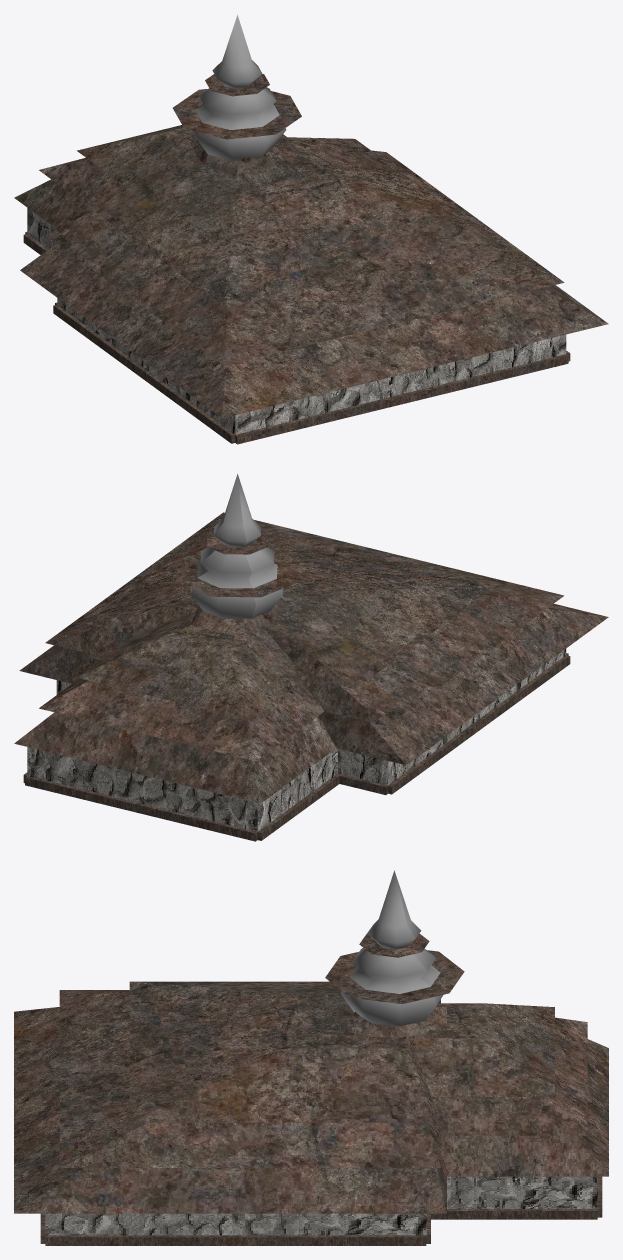
File: starterIslandHouseRoof.glb
The picture shows the model from 3 angles, top to bottom: view 1: azimuth 30°, elevation 25°; view 2: azimuth 150°, elevation 25°; view 3: azimuth 270°, elevation 25°; orthographic projection. The views are drawn at different scales.
Visible parts, largest first — view 1: Plane.001; view 2: Plane.001; view 3: Plane.001.
Boxes of the visible parts, left/top/right/bottom form: Plane.001: left=14, top=15, right=608, bottom=444; Plane.001: left=14, top=474, right=608, bottom=841; Plane.001: left=14, top=870, right=608, bottom=1245.
Bounding box in the file's own units: 18.91 × 12.55 × 23.55.
3 materials, 2 textured.
